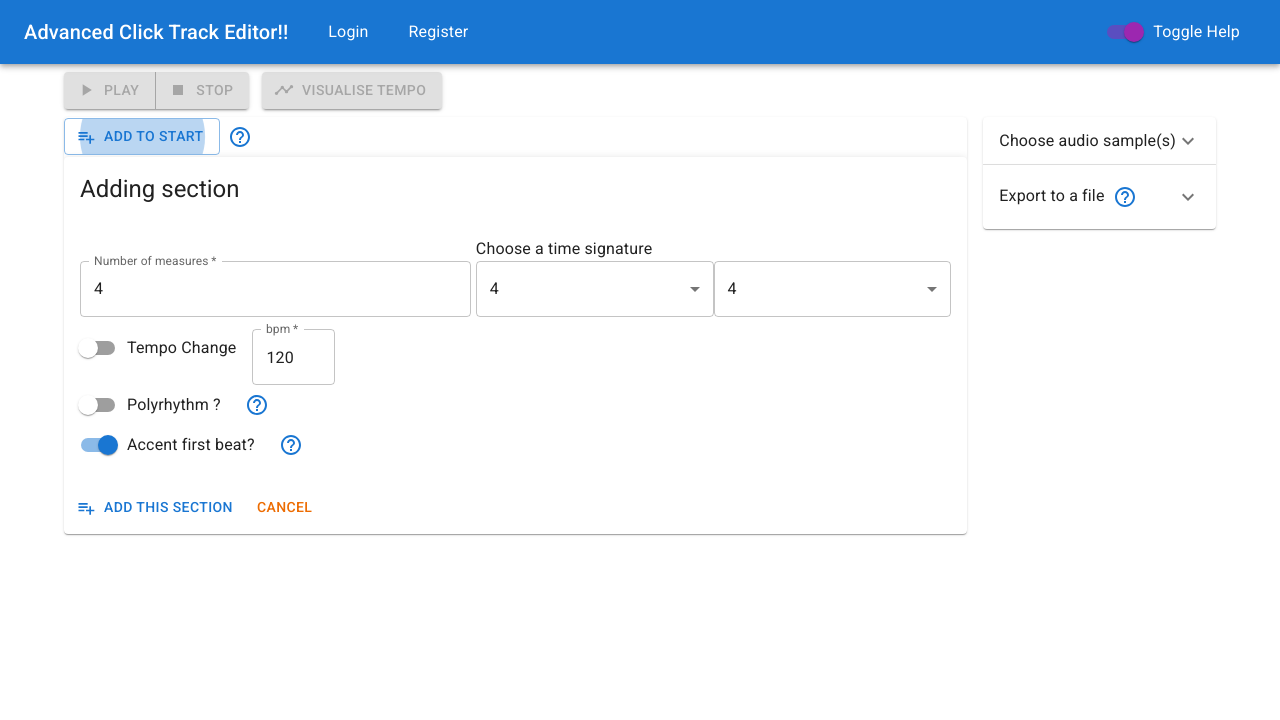
Clicktrack app › User can click cancel to leave the form without submitting
What coordinates should you click on to do the following:
click the button with class "section-form-cancel"
I would click on:
 (285, 508)
Its box is [249,489,320,526].
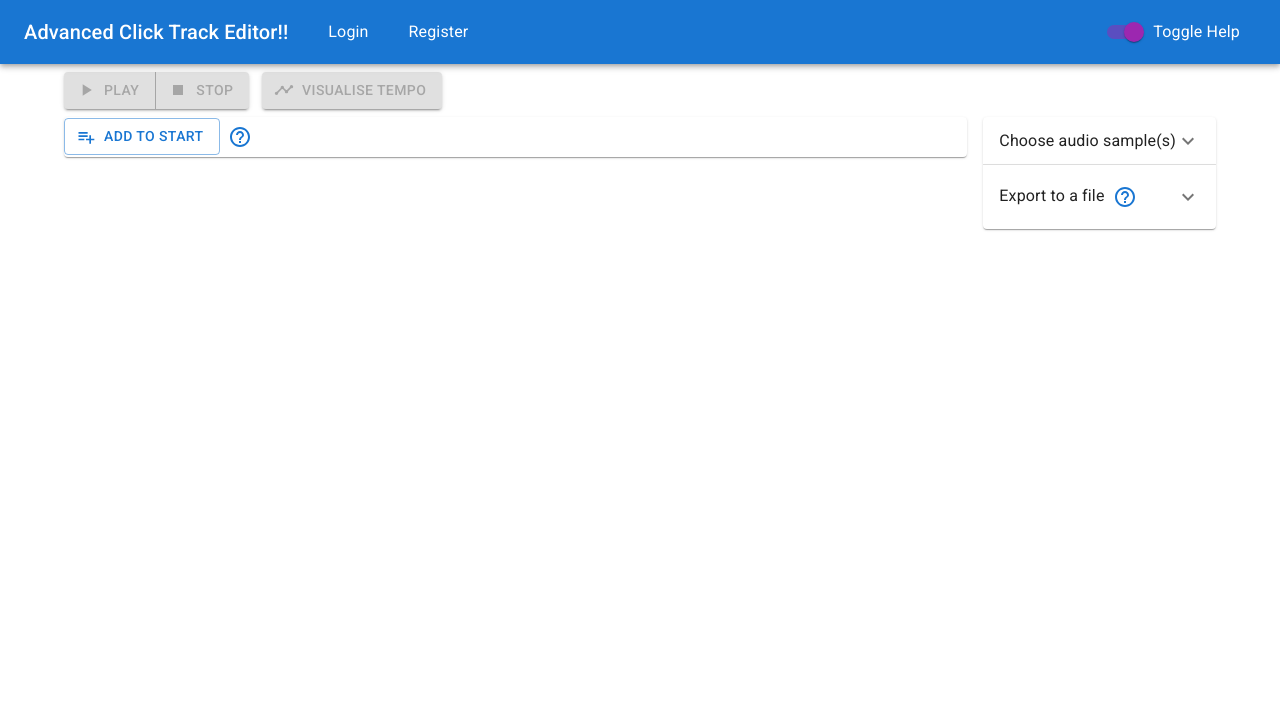
Check: the text "Adding section" is gone
